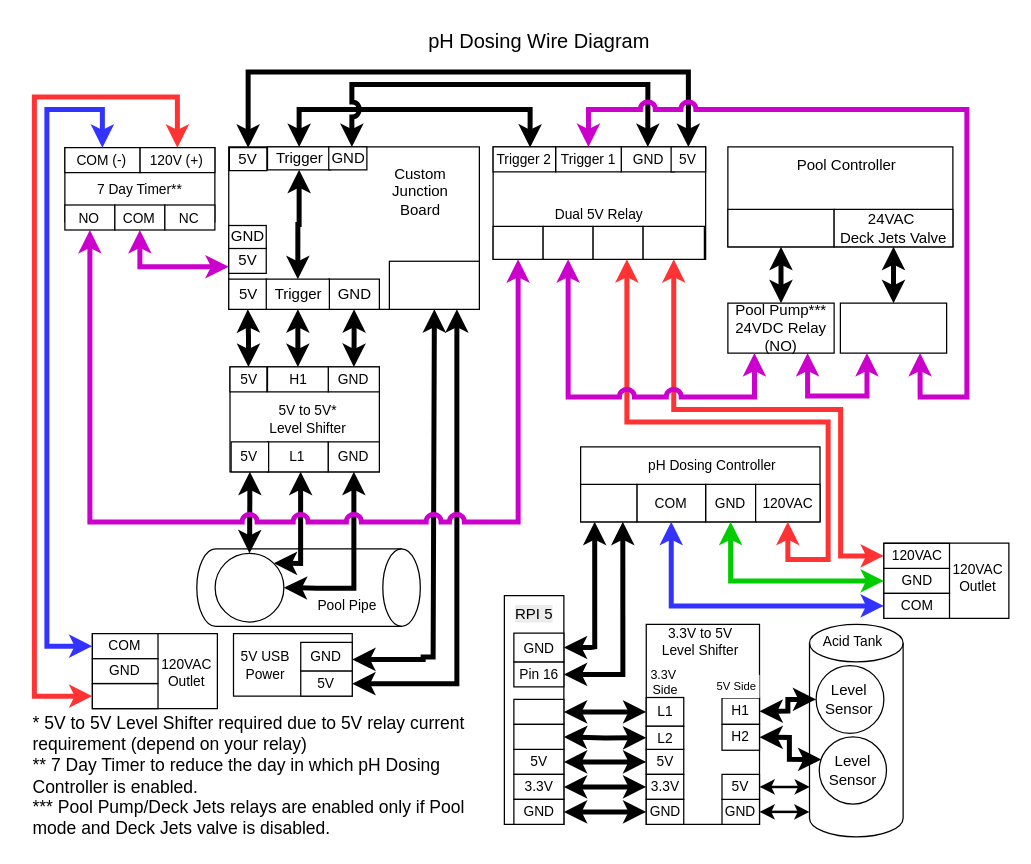
This 1031x864 diagram has some shape labels left out. Here are the shapes that lost their labels. From the top down, the centre of each, then its label:
the point at 517,242: NO2
the point at 567,242: COM2
the point at 617,242: NO1
the point at 673,242: COM1
the point at 780,227: 24VDC AUX SPARE
the point at 433,284: USB Type C 5V supply
the point at 893,327: Deck Jets *** 24VAC Relay (NO)
the point at 608,502: Alarm (NO)
the point at 249,587: Water Sensor
the point at 124,695: 120V+
the point at 538,711: Pin 27
the point at 538,736: Pin 22
